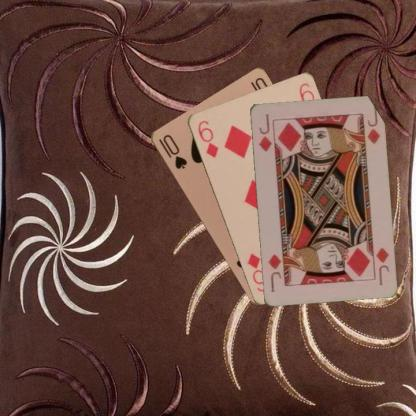10s: (155, 131, 188, 171)
6d: (194, 117, 219, 159)
Jd: (255, 111, 273, 152), (373, 244, 390, 286)
